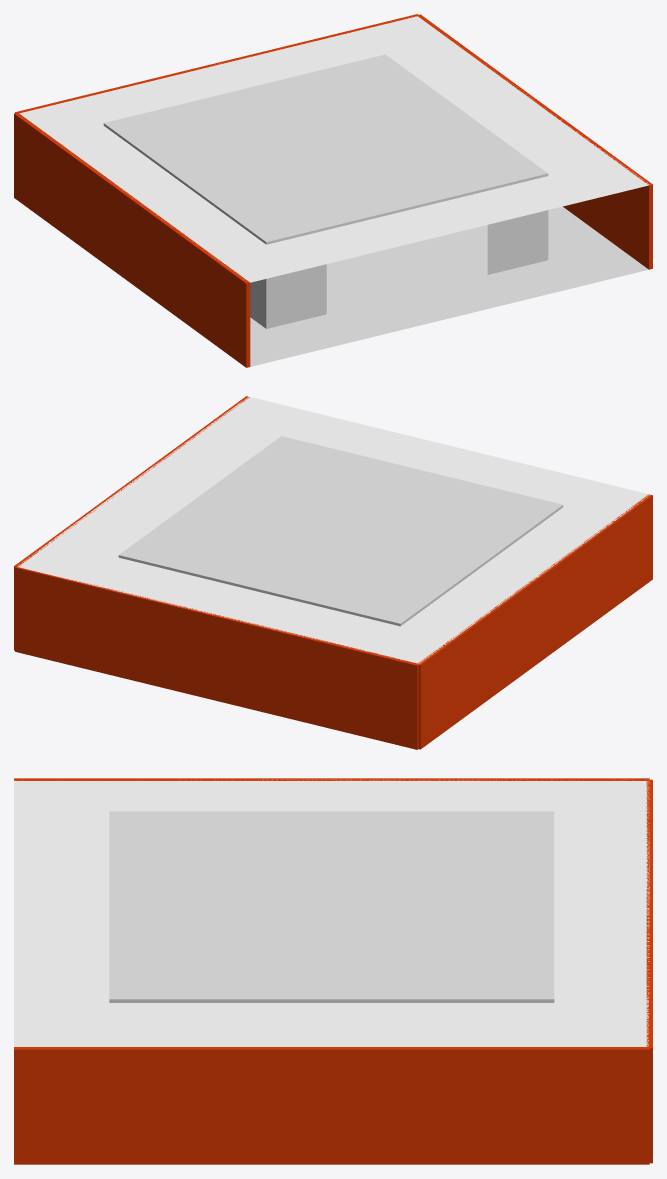
The model's file is level2.glb.
The picture shows the model from 3 angles, top to bottom: view 1: azimuth 30°, elevation 25°; view 2: azimuth 150°, elevation 25°; view 3: azimuth 270°, elevation 25°; orthographic projection. The views are drawn at different scales.
Visible parts, largest first — view 1: interior.col, ceiling.col, floor.col, leftwall.col, rightwall.col, backwall.col; view 2: interior.col, ceiling.col, backwall.col, leftwall.col, rightwall.col; view 3: interior.col, ceiling.col, rightwall.col, backwall.col, leftwall.col.
Part boxes in pixels (<box>): interior.col: <box>103,54,548,328</box>; ceiling.col: <box>19,16,649,282</box>; floor.col: <box>250,206,648,366</box>; leftwall.col: <box>14,112,250,367</box>; rightwall.col: <box>418,14,652,269</box>; backwall.col: <box>15,14,419,113</box>; interior.col: <box>118,436,563,626</box>; ceiling.col: <box>17,396,650,663</box>; backwall.col: <box>15,566,418,749</box>; leftwall.col: <box>418,494,652,749</box>; rightwall.col: <box>14,396,249,650</box>; interior.col: <box>109,811,554,1002</box>; ceiling.col: <box>14,779,649,1046</box>; rightwall.col: <box>14,1047,649,1164</box>; backwall.col: <box>646,779,652,1163</box>; leftwall.col: <box>14,778,649,780</box>.
Bounding box in the file's own units: 20.2 × 4.41 × 20.1.
